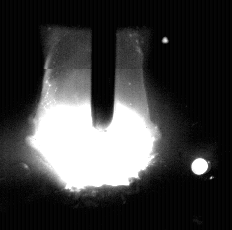arame: (92, 0, 115, 132)
poca: (26, 0, 155, 230)
